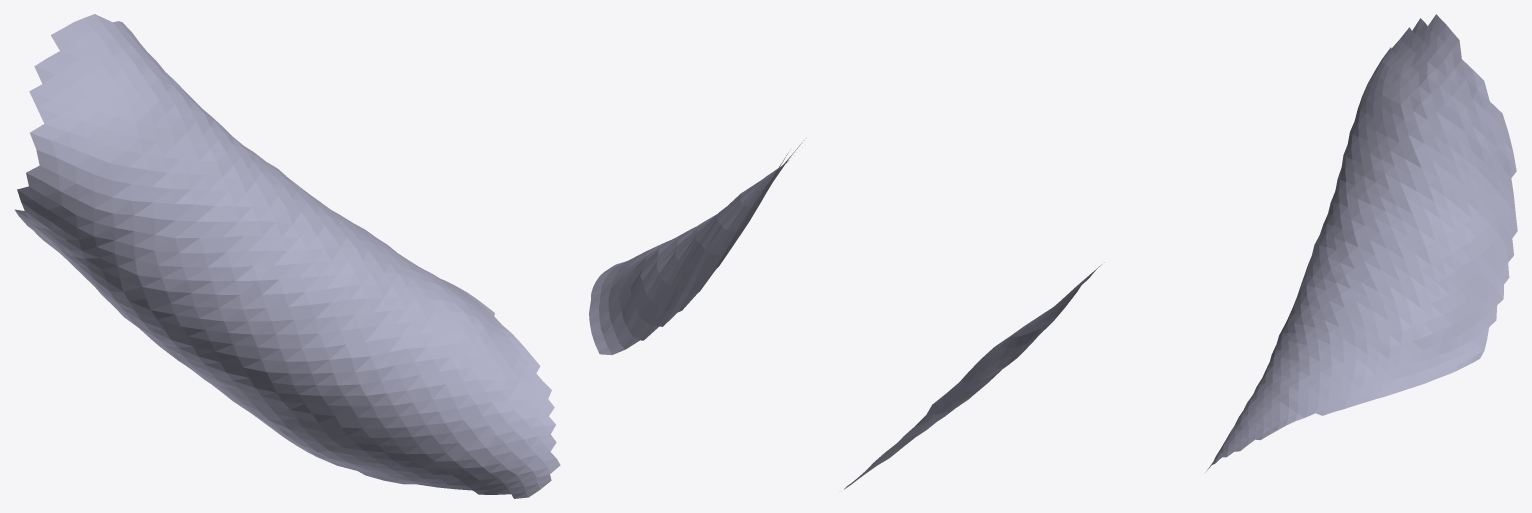
The model's file is lh_transversetemporal.glb.
3 views of the same model, side by side, from view 1: azimuth 30°, elevation 25°; view 2: azimuth 150°, elevation 25°; view 3: azimuth 270°, elevation 25° (orthographic). The views are drawn at different scales.
Visible parts, largest first — view 1: world; view 2: world; view 3: world.
Boxes of the visible parts, bbox=[...] form: world: bbox=[15, 14, 560, 498]; world: bbox=[589, 140, 1104, 489]; world: bbox=[1205, 14, 1517, 472].
Bounding box in the file's own units: 22.74 × 22.1 × 17.94.
